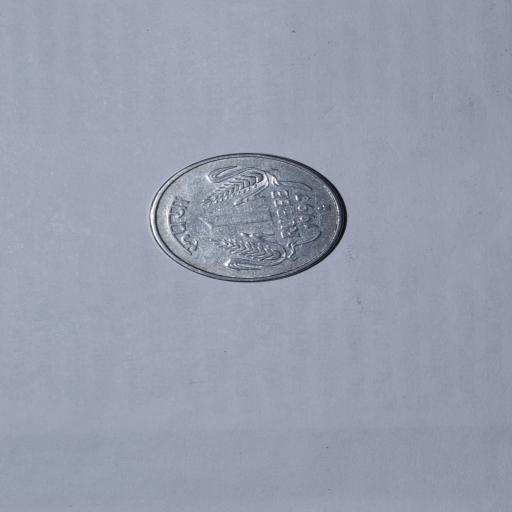rupee1: (141, 150, 351, 285)
